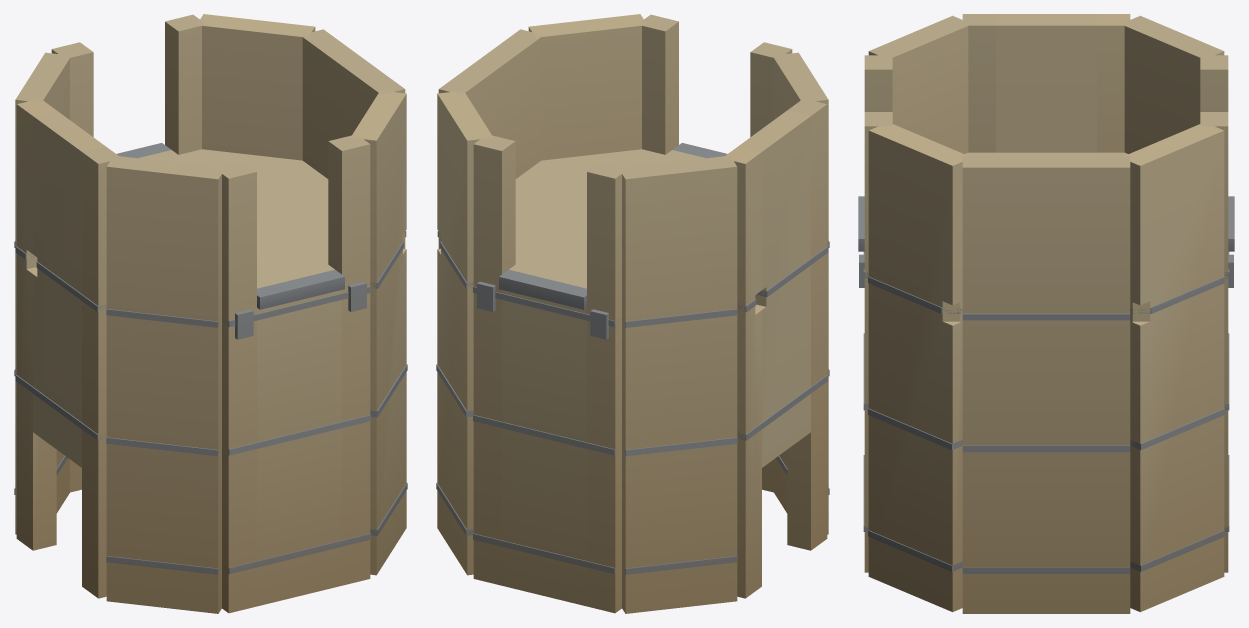
The model's file is tower-base-b4.glb.
3 renders of one model, left to right at view 1: azimuth 30°, elevation 25°; view 2: azimuth 150°, elevation 25°; view 3: azimuth 270°, elevation 25°, orthographic. The views are drawn at different scales.
Visible parts, largest first — view 1: Mesh_LimestoneStructure, Mesh_PocketedMasonry_1, Mesh_PocketedMasonry_4, Mesh_PocketedMasonry_6, Mesh_PocketedMasonry_3, Mesh_DarkStoneCourses, Mesh_DoorSill_PlusZ, Mesh_PocketedMasonry_5; view 2: Mesh_LimestoneStructure, Mesh_PocketedMasonry_6, Mesh_PocketedMasonry_4, Mesh_PocketedMasonry_1, Mesh_PocketedMasonry_3, Mesh_DarkStoneCourses, Mesh_DoorSill_MinusZ, Mesh_PocketedMasonry_5; view 3: Mesh_LimestoneStructure, Mesh_PocketedMasonry_6, Mesh_PocketedMasonry_1, Mesh_PocketedMasonry_4, Mesh_DarkStoneCourses, Mesh_PocketedMasonry_3, Mesh_PocketedMasonry_7, Mesh_PocketedMasonry_2.
Part boxes in pixels (box(x1,y1,x2,y2)): Mesh_LimestoneStructure: box(15, 14, 405, 613); Mesh_PocketedMasonry_1: box(350, 90, 406, 575); Mesh_PocketedMasonry_4: box(33, 110, 105, 467); Mesh_PocketedMasonry_6: box(197, 14, 315, 160); Mesh_PocketedMasonry_3: box(16, 98, 56, 550); Mesh_DarkStoneCourses: box(14, 231, 407, 574); Mesh_DoorSill_PlusZ: box(257, 269, 344, 309); Mesh_PocketedMasonry_5: box(15, 246, 106, 312); Mesh_LimestoneStructure: box(438, 14, 828, 613); Mesh_PocketedMasonry_6: box(437, 90, 493, 575); Mesh_PocketedMasonry_4: box(738, 110, 810, 467); Mesh_PocketedMasonry_1: box(528, 14, 646, 160); Mesh_PocketedMasonry_3: box(723, 146, 761, 598); Mesh_DarkStoneCourses: box(436, 231, 829, 574); Mesh_DoorSill_MinusZ: box(499, 269, 586, 309); Mesh_PocketedMasonry_5: box(737, 246, 828, 312); Mesh_LimestoneStructure: box(864, 14, 1228, 613); Mesh_PocketedMasonry_6: box(1121, 122, 1224, 612); Mesh_PocketedMasonry_1: box(868, 122, 971, 612); Mesh_PocketedMasonry_4: box(996, 14, 1096, 152); Mesh_DarkStoneCourses: box(859, 251, 1233, 573); Mesh_PocketedMasonry_3: box(1097, 14, 1130, 152); Mesh_PocketedMasonry_7: box(1130, 276, 1224, 314); Mesh_PocketedMasonry_2: box(868, 276, 962, 313).
Bounding box in the file's own units: 6.54 × 8.8 × 6.72.
